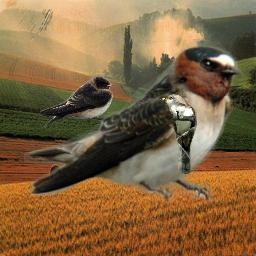Cuckoo: (159, 94, 197, 174)
Swallow: (24, 39, 249, 204), (40, 76, 114, 127)
